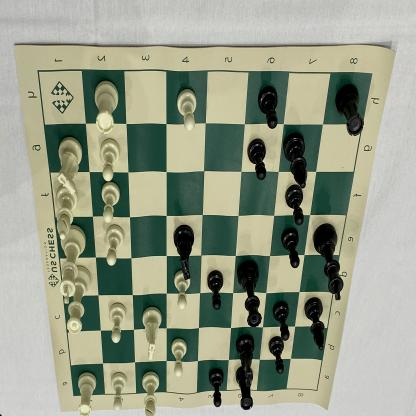black-bishop: (282, 132, 308, 188), (304, 296, 327, 353)
black-king: (314, 221, 344, 304)
black-knight: (172, 224, 195, 282), (234, 334, 257, 387)
black-pawn: (246, 135, 268, 182), (258, 84, 278, 131), (284, 185, 306, 226), (272, 299, 290, 341), (282, 228, 300, 270), (267, 336, 285, 376), (206, 368, 224, 408), (206, 270, 224, 310)
black-queen: (238, 259, 261, 329)
black-rook: (333, 81, 364, 142), (234, 366, 255, 414)
white-bishop: (53, 186, 78, 241), (140, 371, 161, 416)
white-king: (57, 223, 87, 305)
white-knight: (54, 138, 83, 197), (140, 306, 162, 360)
white-pawn: (175, 90, 197, 134), (99, 139, 120, 182), (168, 336, 188, 380), (104, 226, 125, 266), (100, 182, 121, 222), (172, 269, 191, 311), (108, 303, 127, 345), (110, 370, 127, 414)
white-queen: (63, 264, 93, 336)
white-rook: (92, 78, 120, 136), (75, 370, 99, 416)
